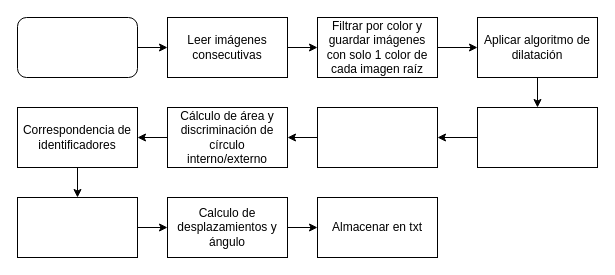
Image size: 615x275. Some labels were removed from this diagram. The box of each missing label's shape, as (x1, y1, x2, y2) in pixels:
Determinación de movimientos y giros: (16, 16, 138, 78)
Localización de contornos: (476, 106, 598, 168)
Obtener coordenadas de los contornos: (16, 196, 138, 258)
Ordenar contornos por tamaño: (316, 106, 438, 168)
